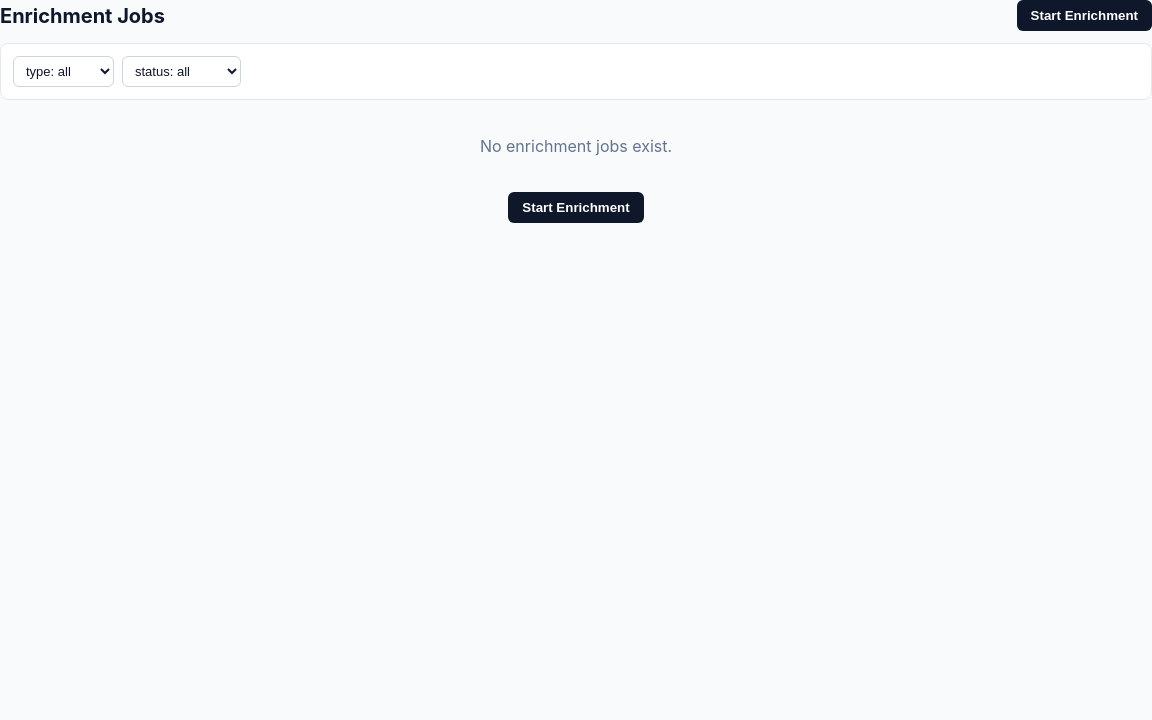
Test: Enrichment Start › batch size inicia em 50 quando Advanced aberto
The image size is (1152, 720).
Click the 1st button "Start Enrichment". click: click(1084, 16)
box: [1017,0,1151,31]
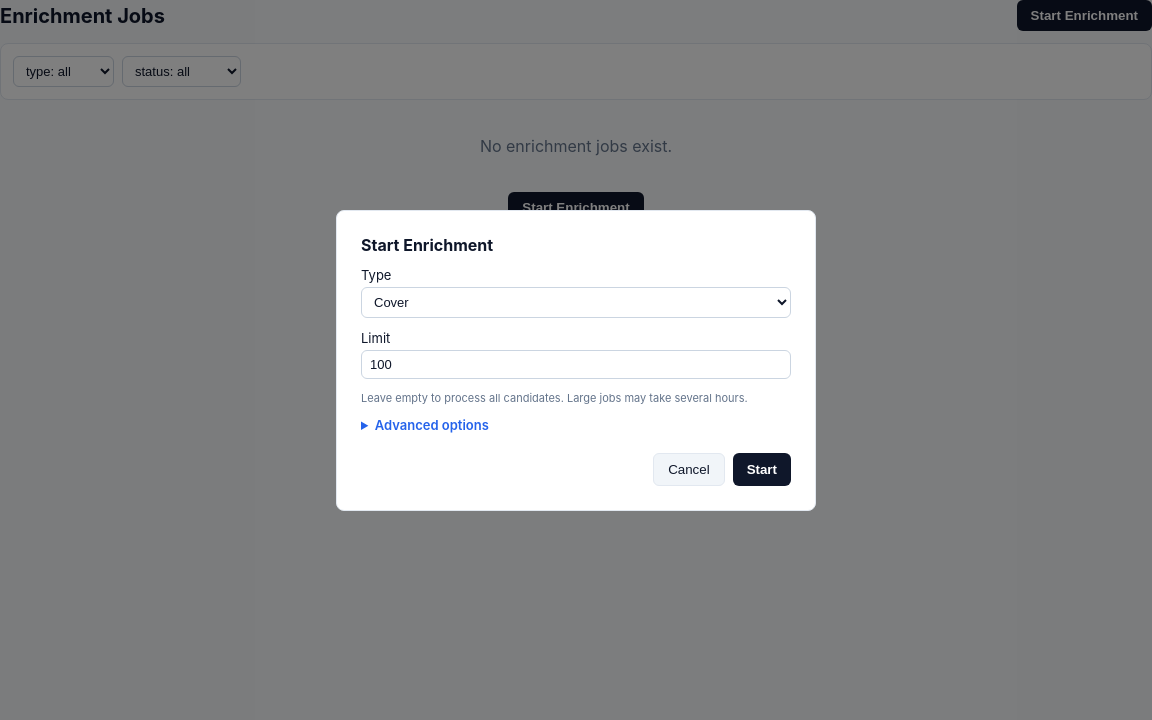
Click the heading "Advanced options". click: click(432, 424)
box: [375,416,489,432]
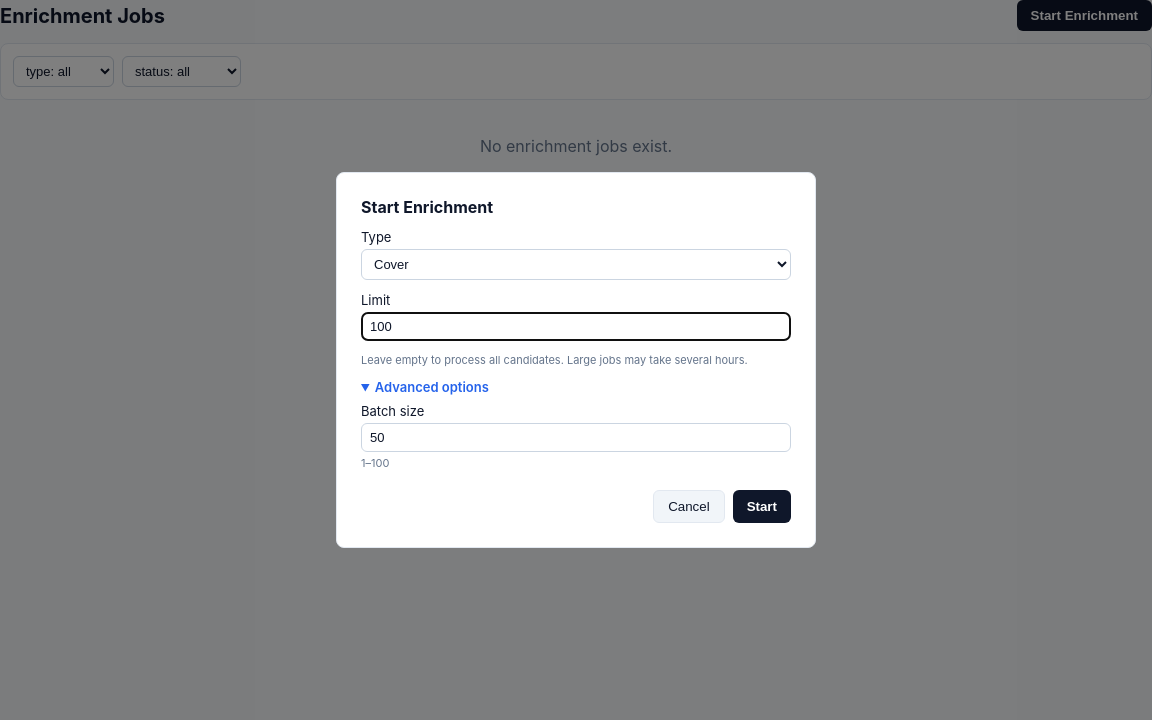
Result: the field labelled "Batch size" holds "50" at [361,423,791,452]
